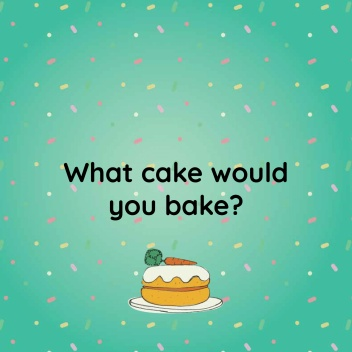latin: (59, 155, 291, 184), (98, 191, 244, 223)
